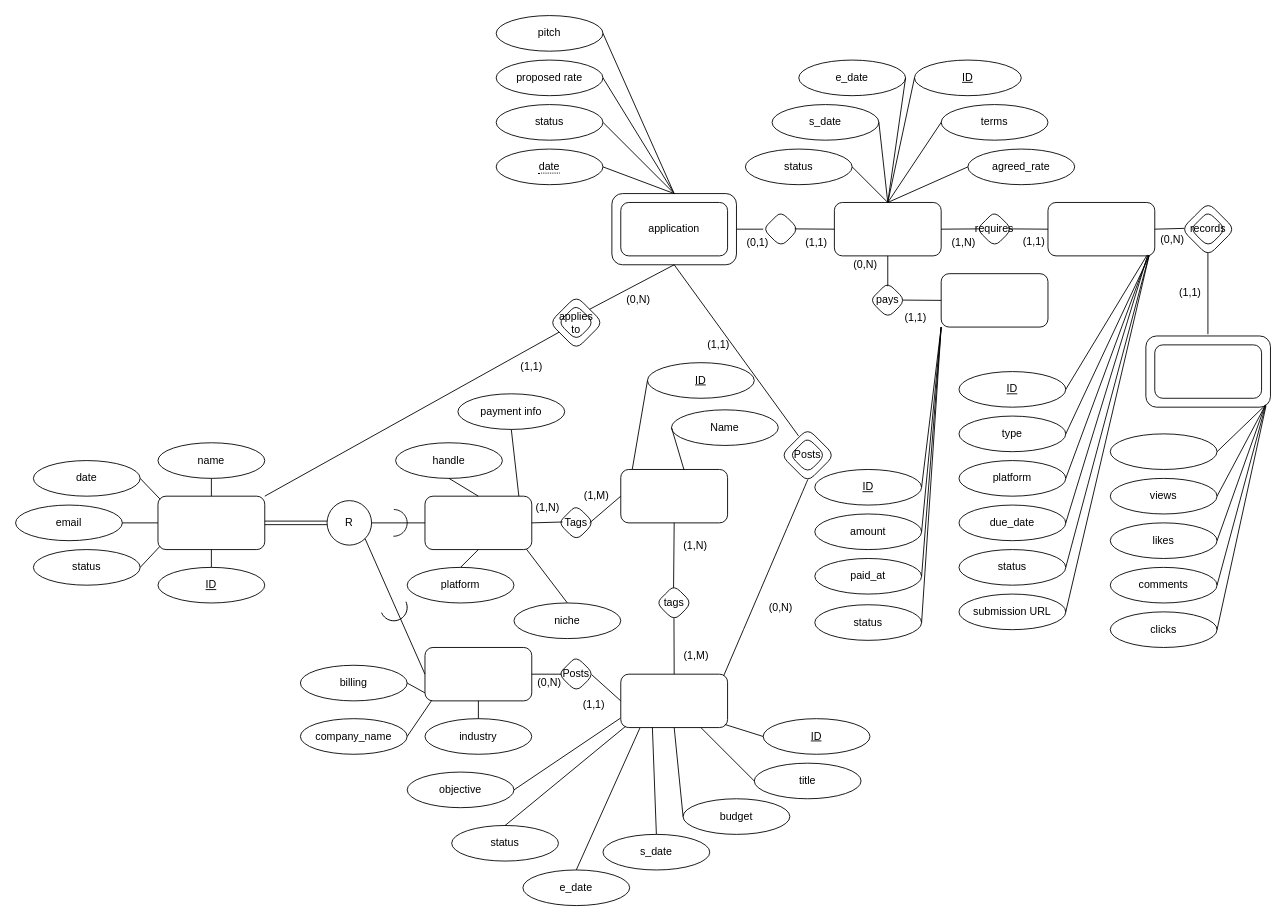
Some shapes in this 1286 by 921 pixel diagram are drawn without their labels. The shapes that lost their labels are listed below. From the top down, each one's centre as x and y in pixels, then its label:
the point at 780,228: creates
the point at 887,229: contract
the point at 1101,229: deliverable
the point at 994,300: payment
the point at 1208,371: metric snapshot
the point at 1163,451: time
the point at 674,496: category
the point at 211,522: User
the point at 478,522: Influencer
the point at 478,674: Brand
the point at 674,700: campaign
